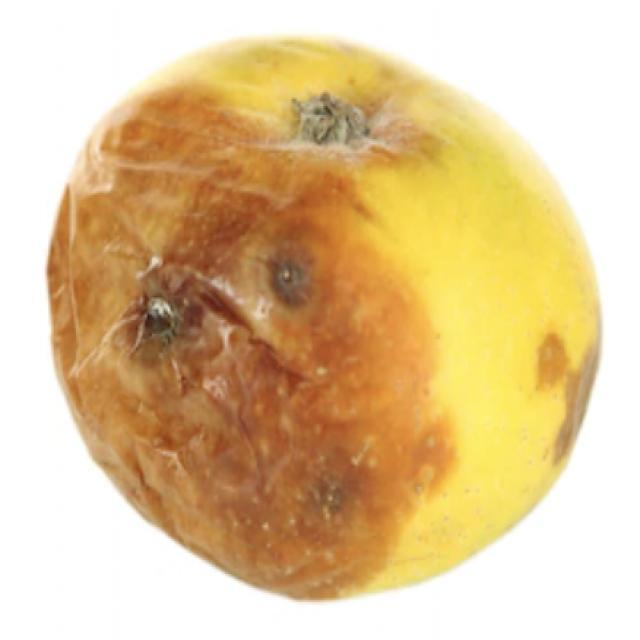Rotten: (85, 52, 593, 623)
